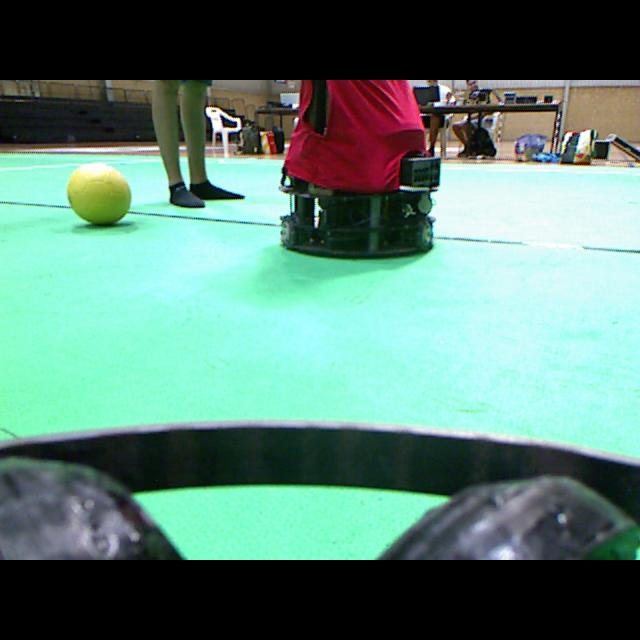ball: (67, 163, 130, 224)
